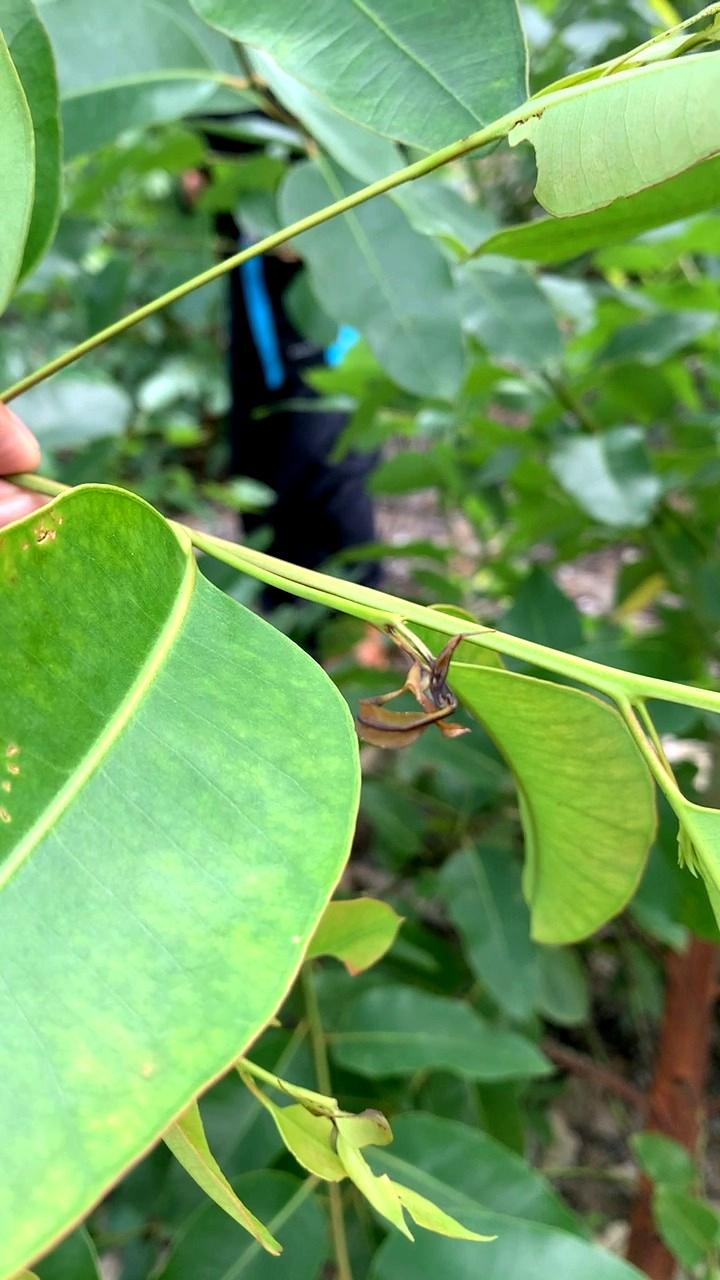Helopeltis-Withered Sprout: (340, 601, 527, 765)
